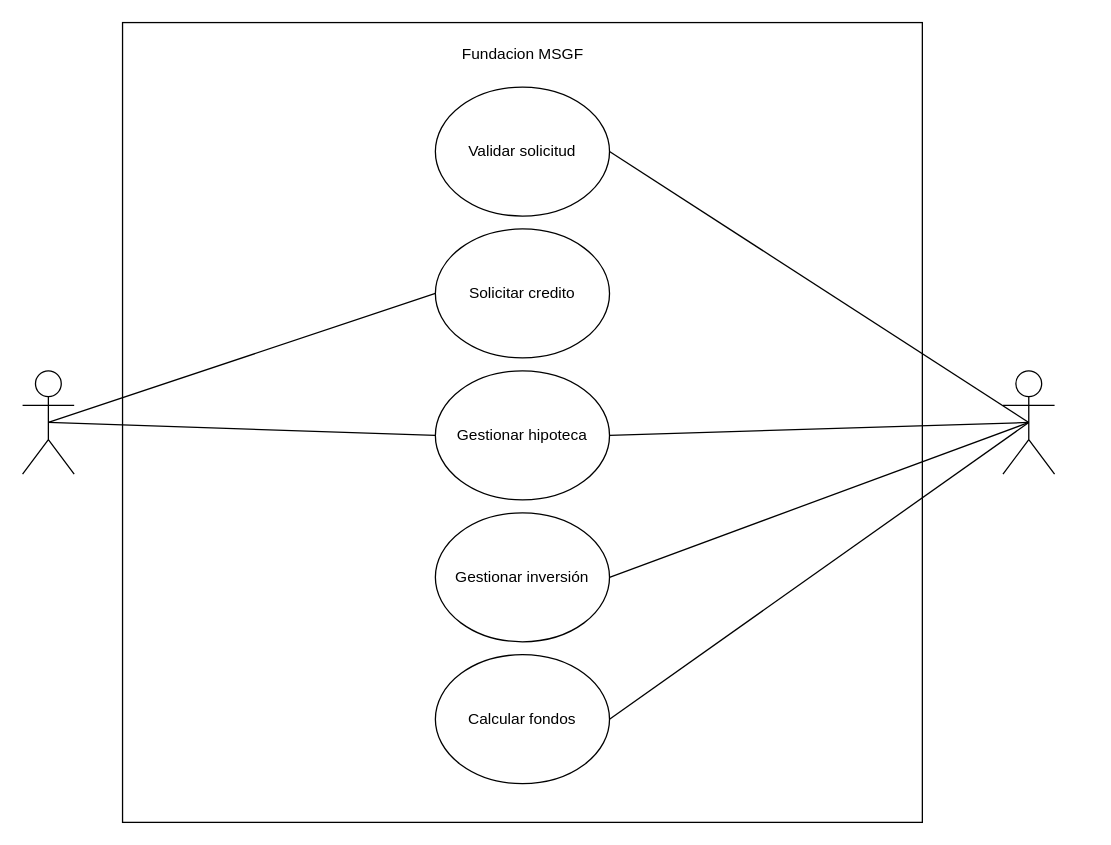
This 1111x845 diagram has some shape labels left out. Each missing label, with the box of its shape:
Empleado MSGF: (1002, 370, 1055, 474)
Pareja: (21, 370, 74, 474)
